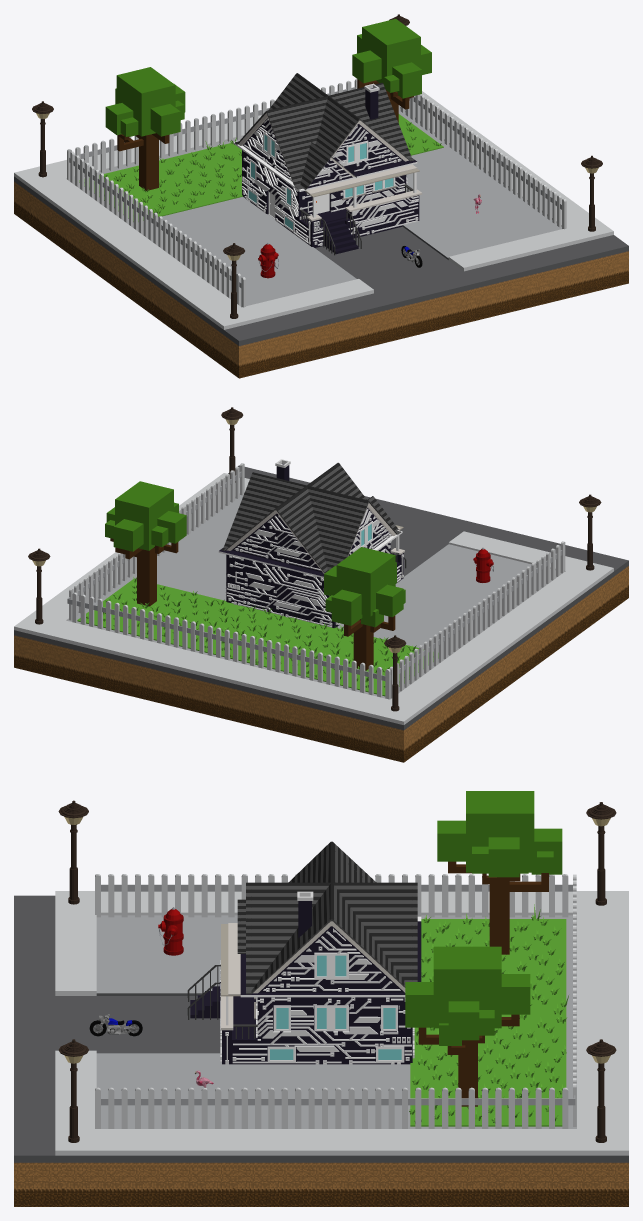
The picture shows the model from 3 angles, top to bottom: view 1: azimuth 30°, elevation 25°; view 2: azimuth 150°, elevation 25°; view 3: azimuth 270°, elevation 25°; orthographic projection. The views are drawn at different scales.
Visible parts, largest first — view 1: Cube.004, Cube.918, OBJRANDOM_FIRE_HYDRANT; view 2: Cube.004, Cube.918, OBJRANDOM_FIRE_HYDRANT; view 3: Cube.004, Cube.918, OBJRANDOM_FIRE_HYDRANT, VEHICLES_CHOPPER.
Boxes of the visible parts, x1,y1,x2,y2 form: Cube.004: (14,14,628,378); Cube.918: (233,73,422,255); OBJRANDOM_FIRE_HYDRANT: (258,243,278,278); Cube.004: (14,407,628,762); Cube.918: (218,459,406,627); OBJRANDOM_FIRE_HYDRANT: (473,547,493,582); Cube.004: (14,791,628,1206); Cube.918: (187,841,421,1064); OBJRANDOM_FIRE_HYDRANT: (158,907,183,955); VEHICLES_CHOPPER: (89,1014,142,1036).
Bounding box in the file's own units: 4000 × 1609 × 4000.
Materials: 33 (3 with a texture image).
